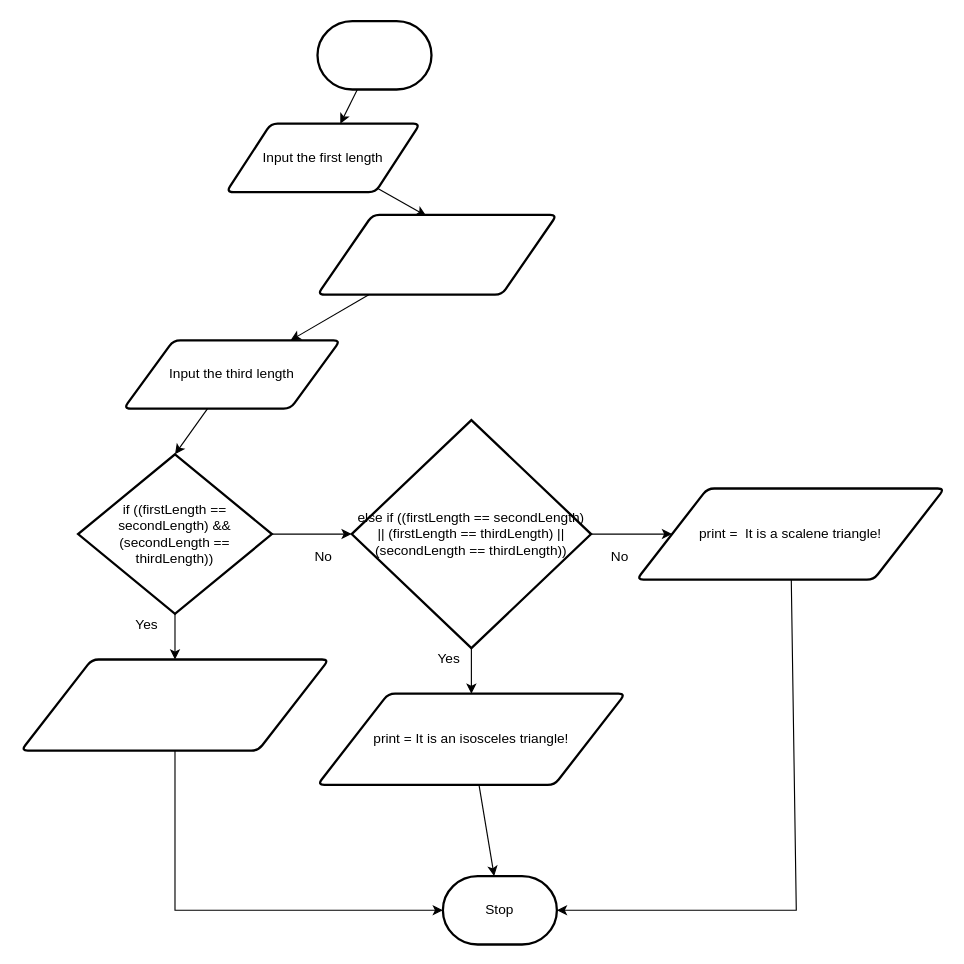
Some shapes in this 964 by 964 pixel diagram are drawn without their labels. The centre of each missing label's shape, as x and y in pixels:
Input the second length: the point at 436,254
print = It is an equilateral triangle!: the point at 174,704
Start: the point at 374,54
